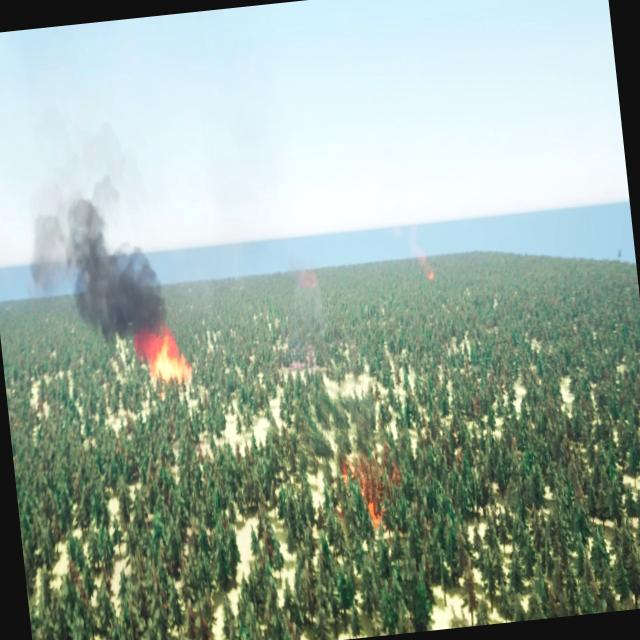fire: (328, 442, 402, 524), (131, 322, 191, 383)
smoke: (11, 114, 172, 346), (408, 230, 438, 280), (288, 256, 322, 295)
